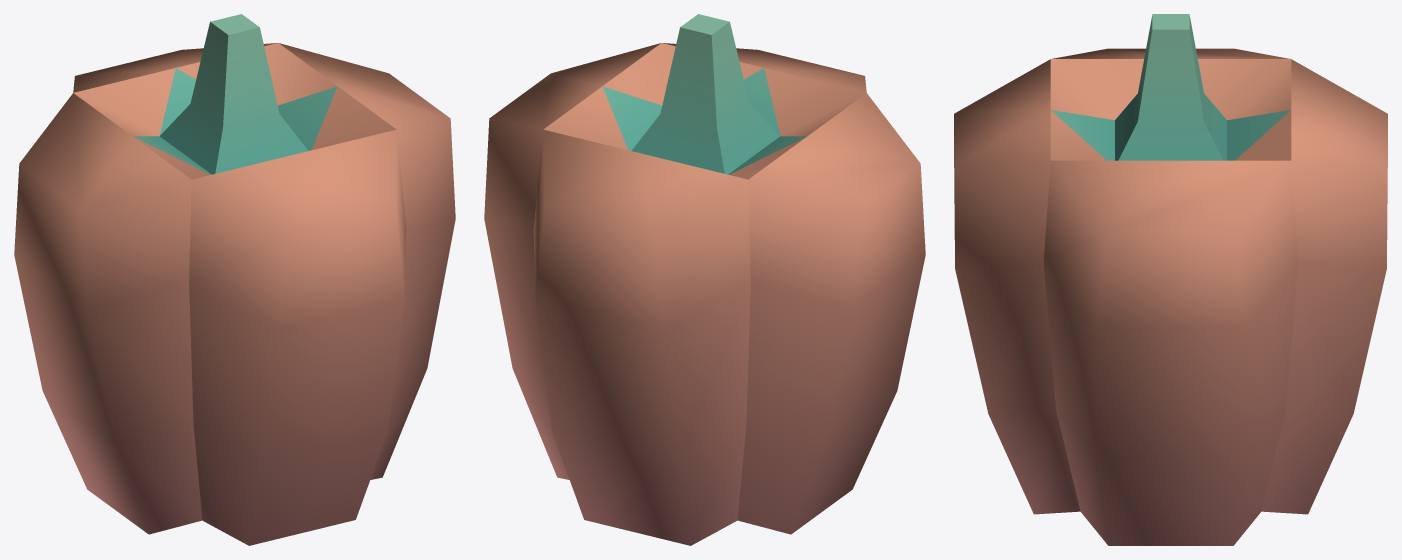
The model's file is paprika.glb.
3 views of the same model, side by side, from view 1: azimuth 30°, elevation 25°; view 2: azimuth 150°, elevation 25°; view 3: azimuth 270°, elevation 25° (orthographic).
Parts seen in each view (by area): view 1: paprika; view 2: paprika; view 3: paprika.
Part boxes in pixels (x1=…): paprika: x1=14, y1=14, x2=455, y2=545; paprika: x1=484, y1=14, x2=925, y2=545; paprika: x1=954, y1=14, x2=1387, y2=545.
Size of the model in its own units: 0.1681 by 0.1993 by 0.1681.
